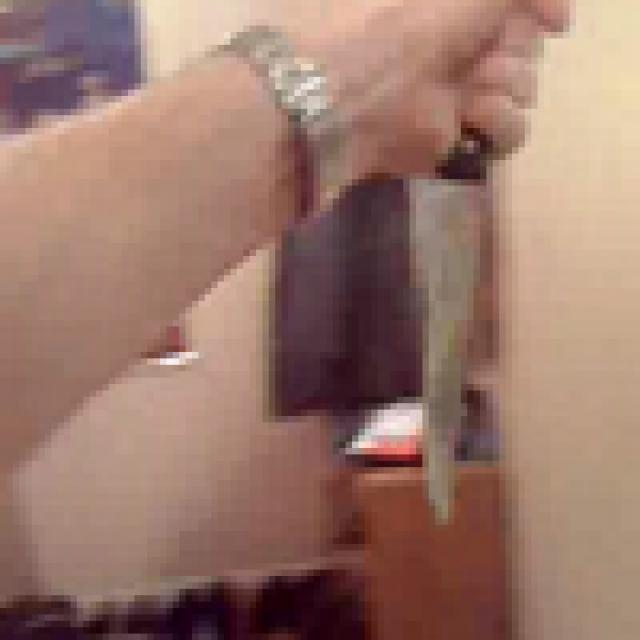weapon: (340, 45, 550, 550)
